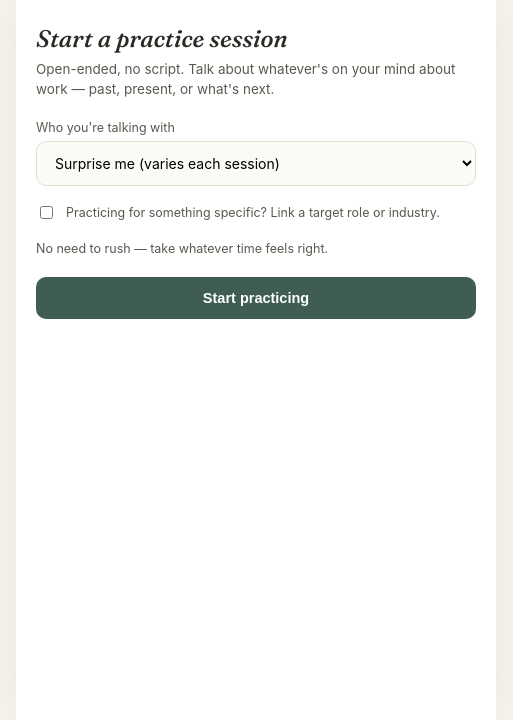
ConversationPage safety card › renders a resource link whose href matches the resource actually shown
Check: the button "Start practicing" is shown, box [36,277,476,319]
Step 1. Submit the form named "start practicing", box [36,120,476,319]
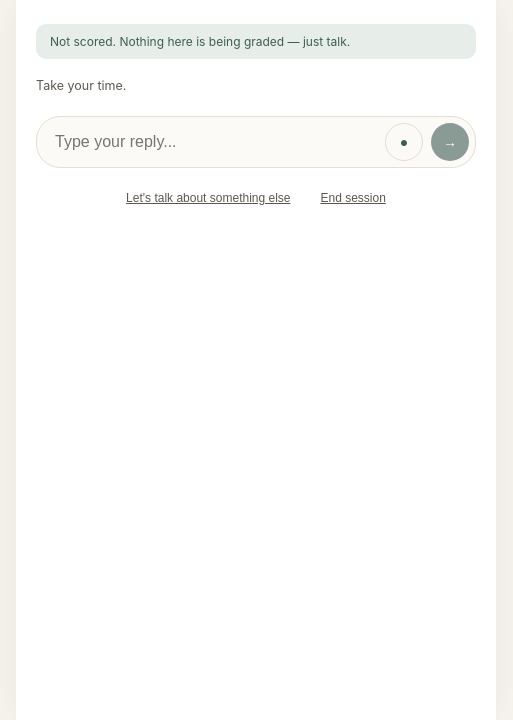
Check: the field with placeholder "Type your reply..." is shown
Step 2. Type "explicit crisis language" into the field with placeholder "Type your reply..." → (215, 142), box [53,132,377,152]
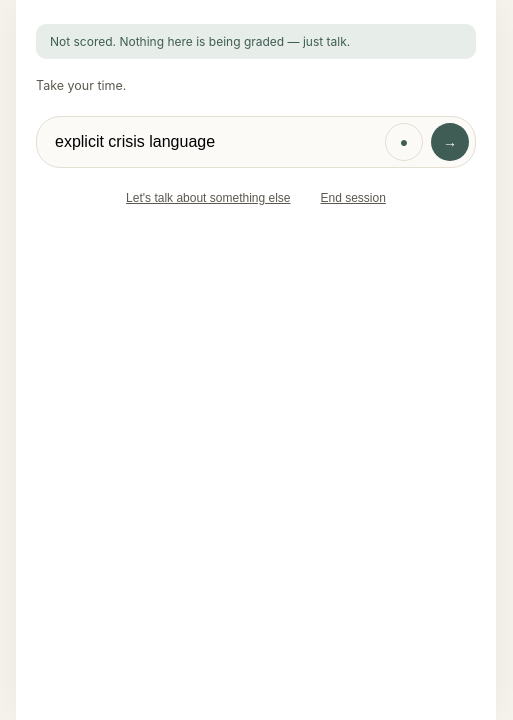
Step 3. Submit the form with placeholder "Type your reply...", box [36,116,476,168]
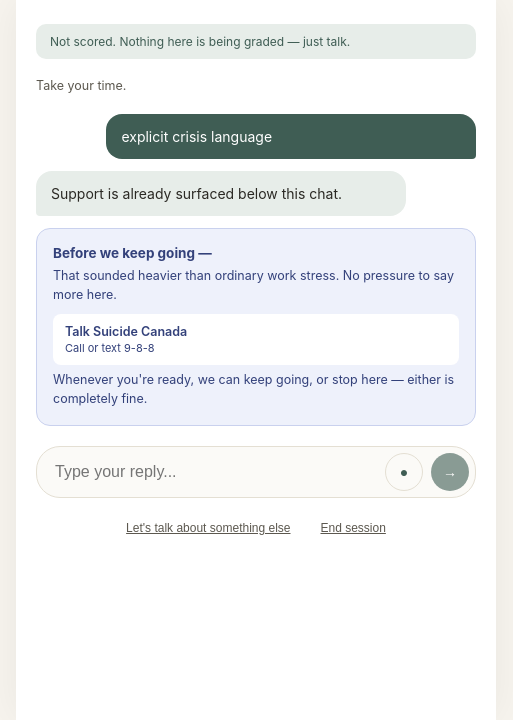
Check: the link "Talk Suicide Canada Call or text 9-8-8" is shown, box [53,314,459,365]
